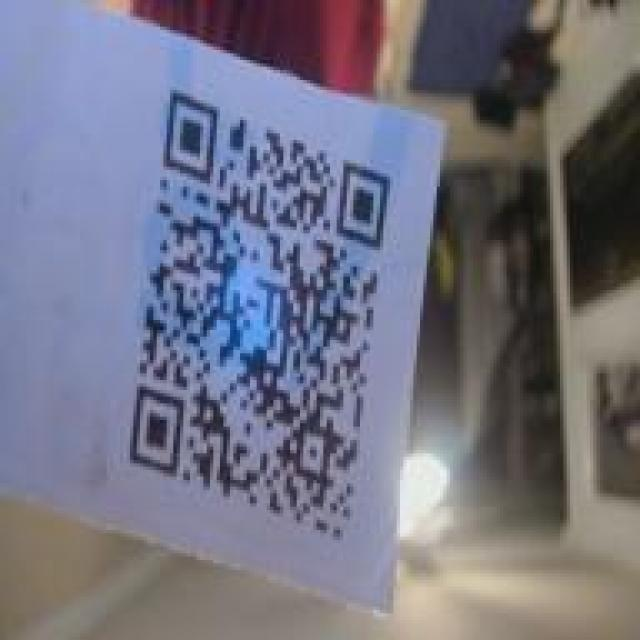qr_code: (128, 91, 392, 544)
